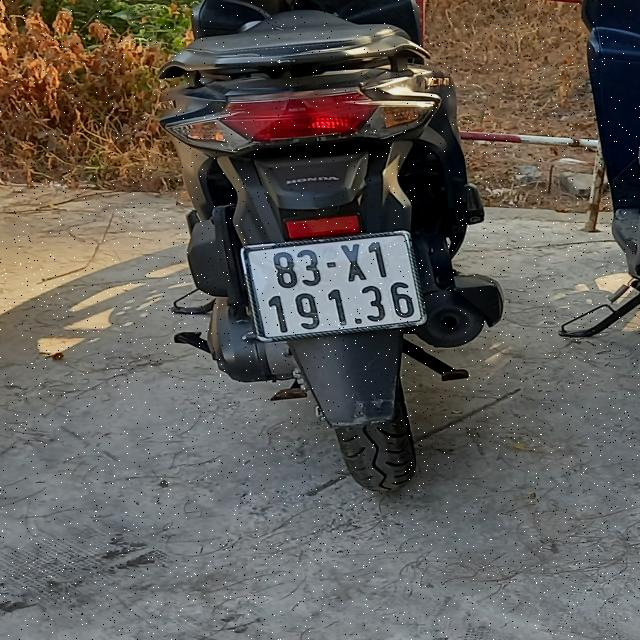1: (263, 292, 290, 335), (293, 291, 320, 331), (327, 285, 348, 330), (366, 240, 388, 279)
3: (360, 284, 386, 323), (297, 249, 322, 286)
6: (390, 278, 412, 320)
8: (271, 253, 300, 287)
X: (340, 242, 364, 282)
